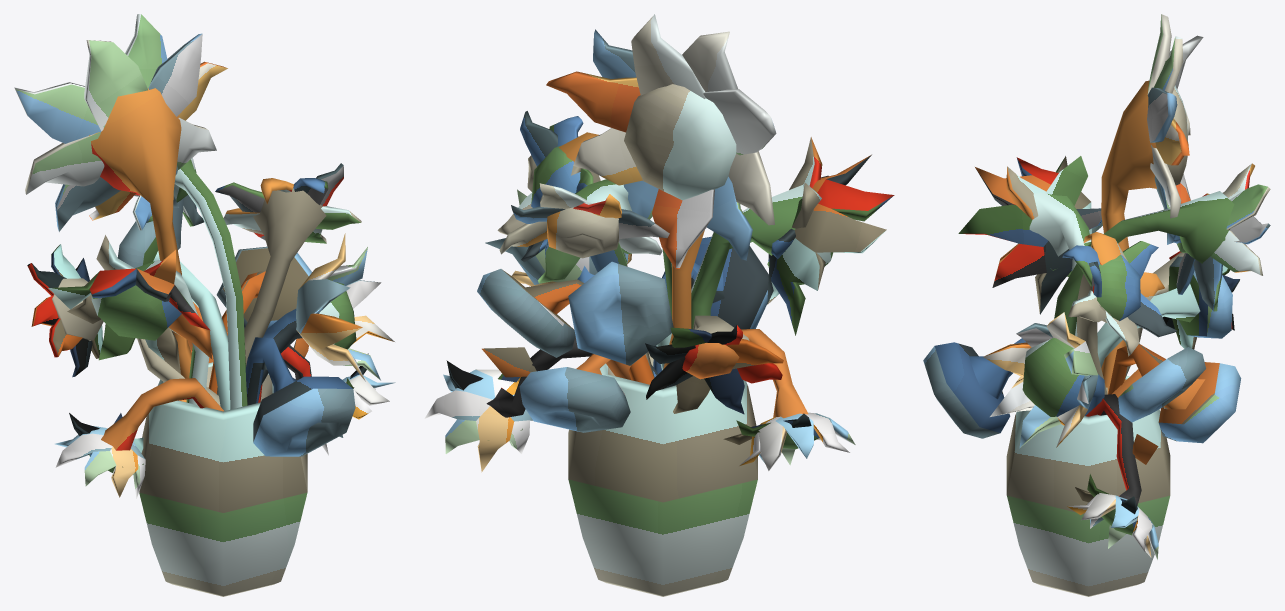
File: P_AP31SunflowerVase.glb
3 views of the same model, side by side, from view 1: azimuth 30°, elevation 25°; view 2: azimuth 150°, elevation 25°; view 3: azimuth 270°, elevation 25° (orthographic). The views are drawn at different scales.
Visible parts, largest first — view 1: P_AP31SunflowerVase; view 2: P_AP31SunflowerVase; view 3: P_AP31SunflowerVase.
Boxes of the visible parts, x1,y1,x2,y2 form: P_AP31SunflowerVase: (14,14,395,596); P_AP31SunflowerVase: (424,14,894,596); P_AP31SunflowerVase: (923,14,1270,596).
Bounding box in the file's own units: 0.4753 × 0.6546 × 0.3968.
Materials: 1 (1 with a texture image).
